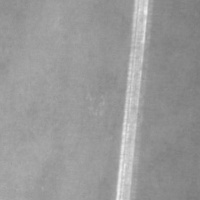scratches: (113, 3, 151, 200)
